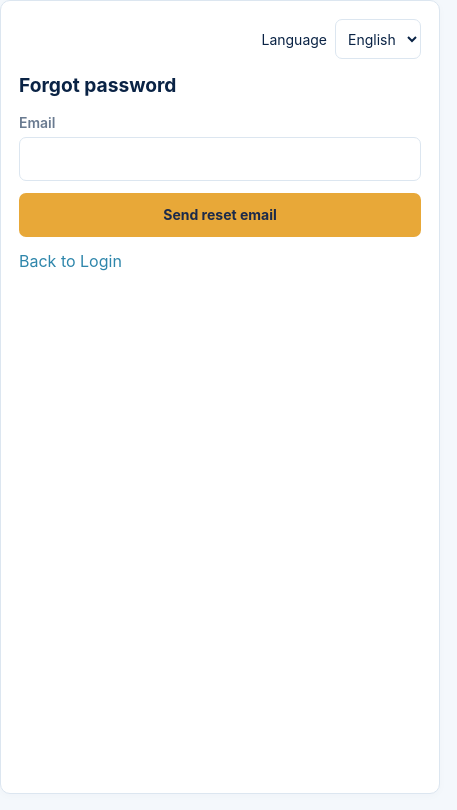
it: public authentication flows › shows a recoverable error when the reset request cannot be sent
Step 1. Type "person@example.com" into the field labelled "Email" → (220, 159), box [19,137,421,181]
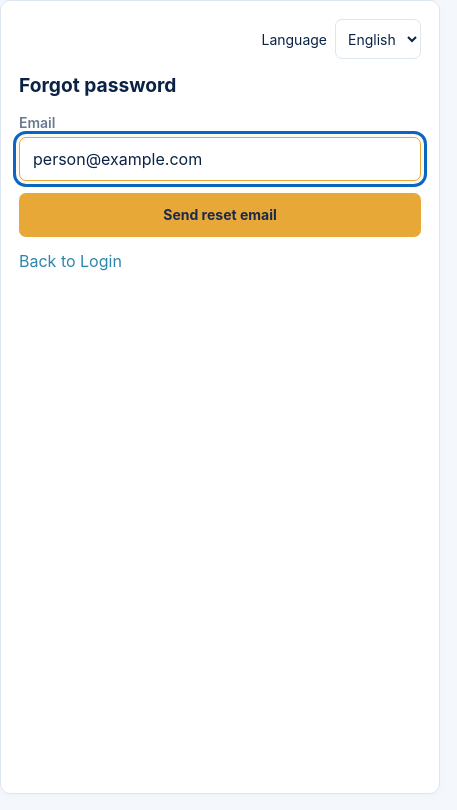
Step 2. Click the button "Send reset email" → (220, 215), box [19,193,421,237]
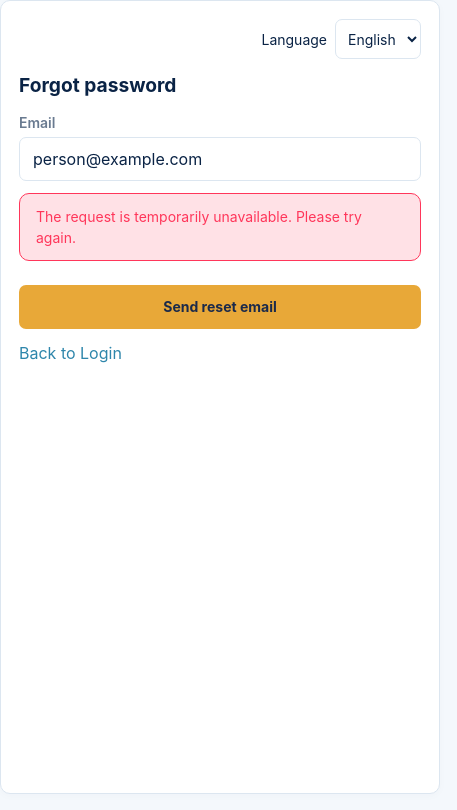
Result: the message shows "temporarily unavailable" at [36,208,362,246]
